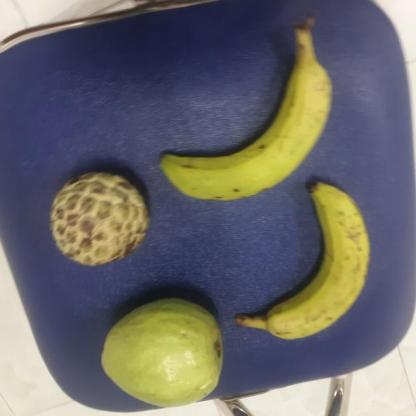annona: (46, 171, 149, 265)
banana: (157, 43, 332, 203), (236, 184, 372, 342)
guava: (99, 295, 222, 408)
